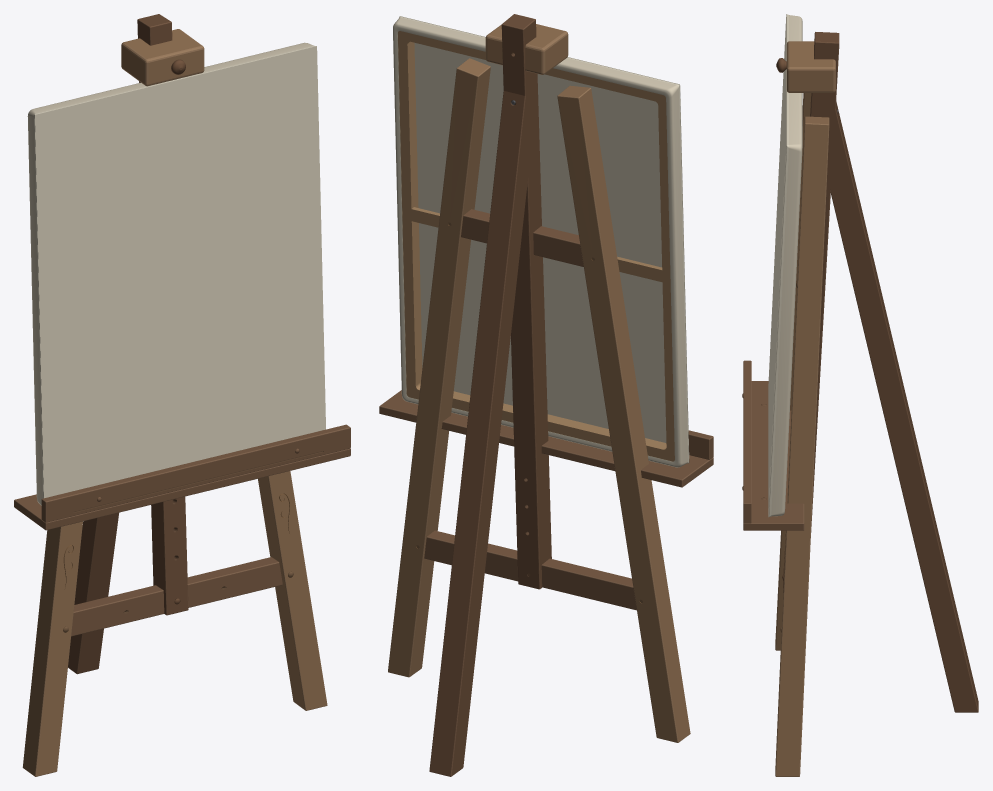
File: easel-with-canvas.glb
3 renders of one model, left to right at view 1: azimuth 30°, elevation 25°; view 2: azimuth 150°, elevation 25°; view 3: azimuth 270°, elevation 25°, orthographic. The views are drawn at different scales.
Visible parts, largest first — view 1: easelCanvas, tray, leftLeg, rightLeg, crossBeamLower, centerMast, rearLeg, topClamp; view 2: easelCanvas, rearLeg, leftLeg, rightLeg, centerMast, crossBeamLower, tray, crossBeam, topClamp; view 3: rightLeg, rearLeg, easelCanvas, tray, centerMast, topClamp, leftLeg.
Boxes of the visible parts, x1=… form: easelCanvas: x1=27, y1=42, x2=325, y2=505; tray: x1=14, y1=424, x2=350, y2=530; leftLeg: x1=22, y1=521, x2=82, y2=776; rightLeg: x1=258, y1=471, x2=327, y2=710; crossBeamLower: x1=71, y1=557, x2=282, y2=636; centerMast: x1=137, y1=14, x2=188, y2=615; rearLeg: x1=68, y1=512, x2=118, y2=674; topClamp: x1=121, y1=29, x2=204, y2=86; easelCanvas: x1=393, y1=16, x2=689, y2=467; rearLeg: x1=429, y1=91, x2=537, y2=776; leftLeg: x1=557, y1=85, x2=690, y2=742; rightLeg: x1=388, y1=58, x2=490, y2=677; centerMast: x1=501, y1=14, x2=551, y2=589; crossBeamLower: x1=424, y1=530, x2=636, y2=610; tray: x1=379, y1=390, x2=713, y2=487; crossBeam: x1=461, y1=209, x2=583, y2=266; topClamp: x1=485, y1=24, x2=568, y2=74; rightLeg: x1=775, y1=116, x2=829, y2=776; rearLeg: x1=814, y1=101, x2=978, y2=712; easelCanvas: x1=768, y1=14, x2=802, y2=517; tray: x1=743, y1=360, x2=804, y2=530; centerMast: x1=783, y1=32, x2=839, y2=592; topClamp: x1=786, y1=41, x2=835, y2=92; leftLeg: x1=775, y1=93, x2=811, y2=650.
Bounding box in the file's own units: 0.72 × 1.58 × 0.5044.
